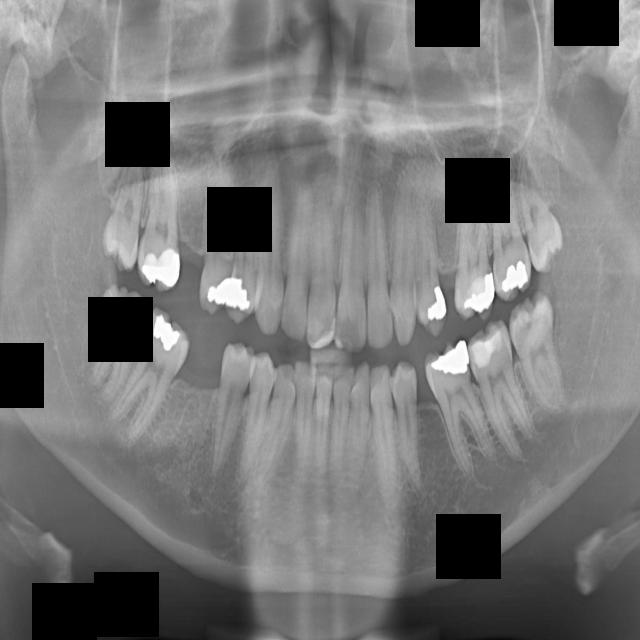3M ESPE Implant: (97, 116, 154, 277)
AGS Medikal Implant: (504, 401, 504, 402)
AMerOss Implant: (417, 333, 501, 482)
Amalgam filling: (130, 127, 182, 295)
Bicon Implant: (391, 356, 424, 493)
BioHorizons Implant: (367, 363, 402, 512)
BioLife Implant: (348, 357, 371, 497)
Biomet 3i Implant: (326, 362, 353, 492)
Blue Sky Bio Implant: (310, 362, 334, 481)
Camlog Implant: (294, 358, 316, 476)
Caries: (366, 178, 394, 350)
Composite filling: (252, 355, 303, 493)
Cowellmedi Implant: (231, 346, 279, 484)
Crown: (208, 337, 257, 485)
Dentis Implant: (100, 300, 203, 454)
Dentium Implant: (83, 277, 151, 408)
Euroteknika Implant: (195, 142, 247, 319)
Filling: (222, 181, 271, 330)
Frontier Implant: (251, 152, 292, 338)
Hiossen Implant: (383, 168, 418, 349)
Implant: (305, 169, 343, 352)
Implant Direct: (280, 170, 317, 344)
Keystone Dental Implant: (333, 163, 366, 355)
MIS Implant: (406, 157, 449, 340)
Maxilla: (453, 178, 500, 324)
Megagen Implant: (479, 144, 535, 304)
Neodent Implant: (514, 171, 572, 279)
Neoss Implant: (503, 284, 571, 422)
